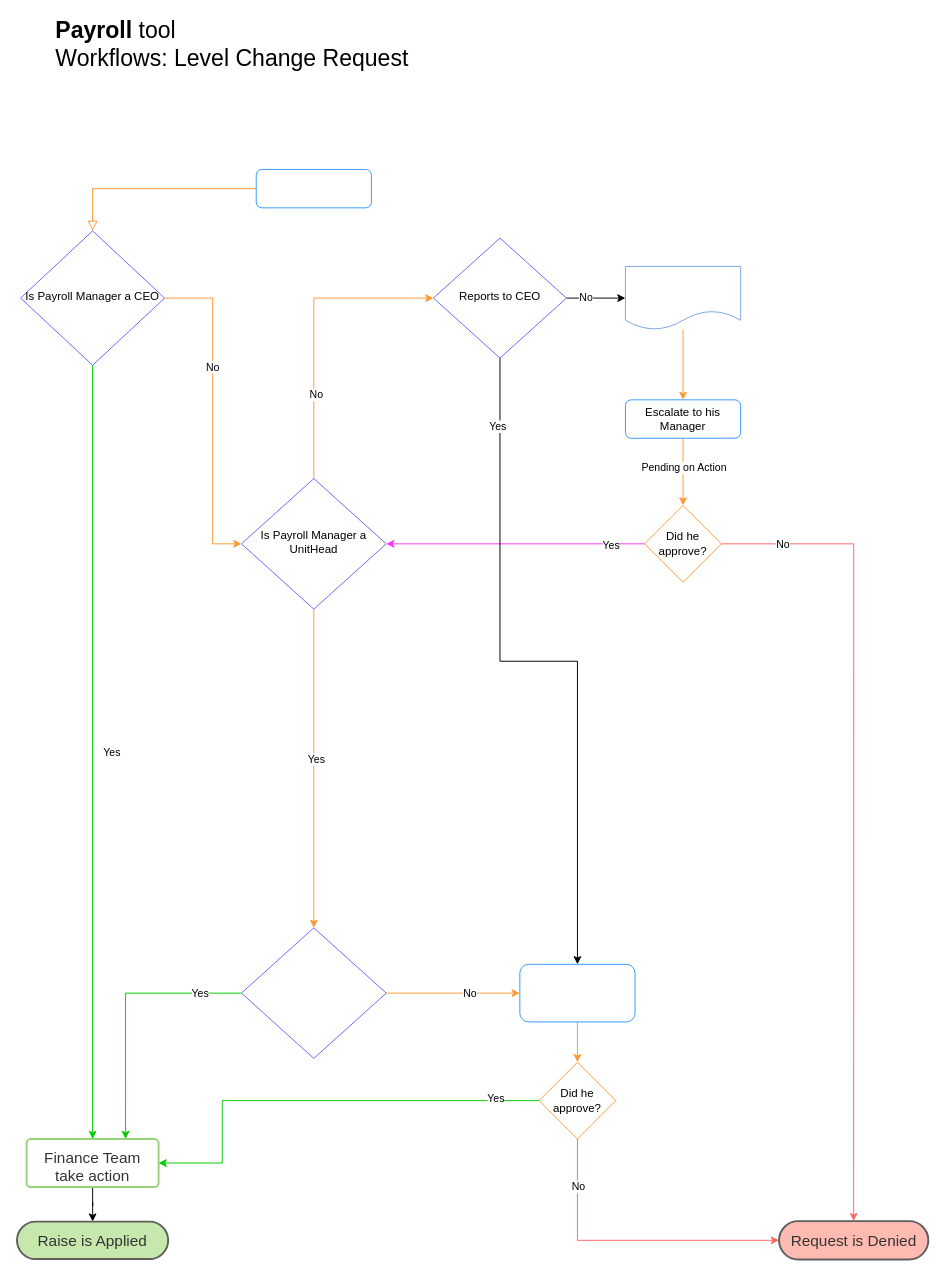
This 947x1277 diagram has some shape labels left out. The shapes that lost their labels are listed below. From the top down, each one's centre as x and y in pixels, then its label:
the point at 313,188: Payroll Manager Creates a Request
the point at 682,297: Payroll Manager is a Normal Manager
the point at 313,992: Is new level within the excluded salary levels ?
the point at 577,992: Escalate to CEO
